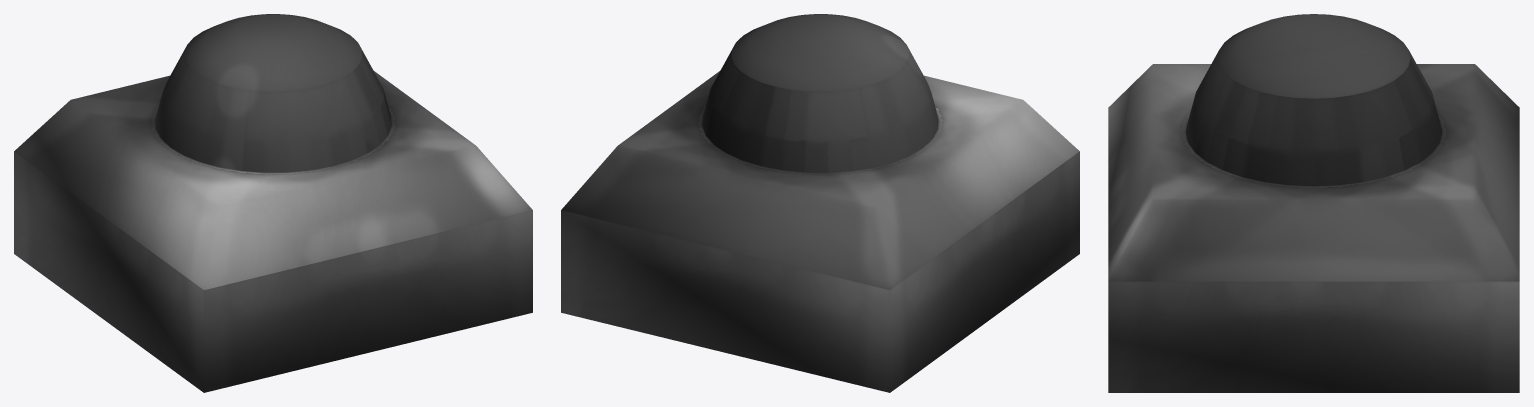
Rendered from button_dead.glb.
The picture shows the model from 3 angles, left to right: view 1: azimuth 30°, elevation 25°; view 2: azimuth 150°, elevation 25°; view 3: azimuth 270°, elevation 25°; orthographic projection. The views are drawn at different scales.
Parts seen in each view (by area): view 1: Cube.001; view 2: Cube.001; view 3: Cube.001.
Part boxes in pixels (x1=…): Cube.001: x1=14, y1=14, x2=532, y2=392; Cube.001: x1=561, y1=14, x2=1079, y2=392; Cube.001: x1=1108, y1=14, x2=1519, y2=392.
Size of the model in its own units: 1 by 0.7336 by 1.
Materials: 1 (1 with a texture image).
